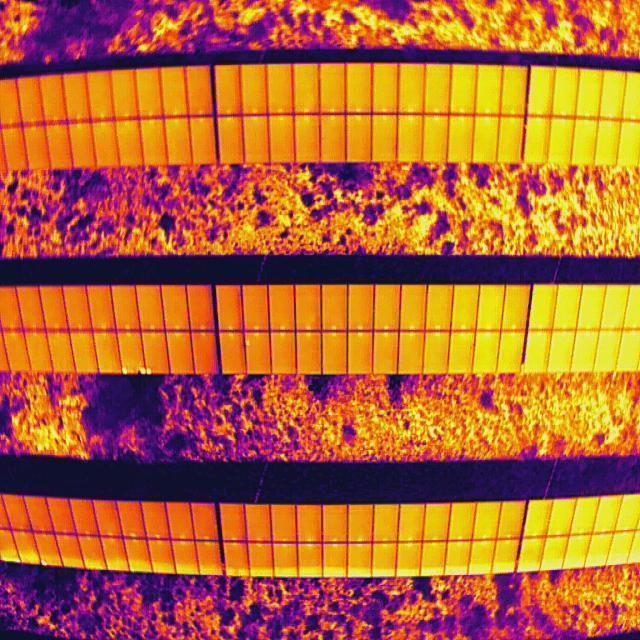hotspot: (122, 365, 147, 376), (148, 365, 154, 375)
